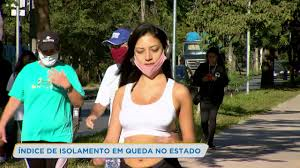mask_weared_incorrect: (131, 35, 168, 79)
